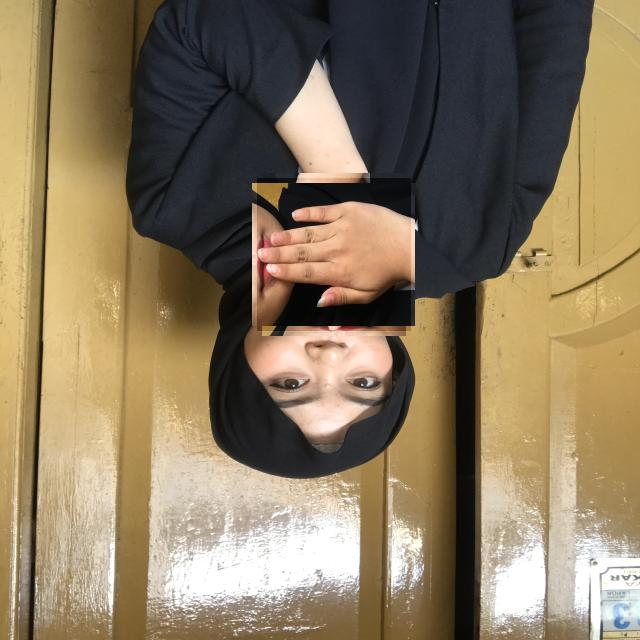ganteng: (257, 178, 411, 331)
